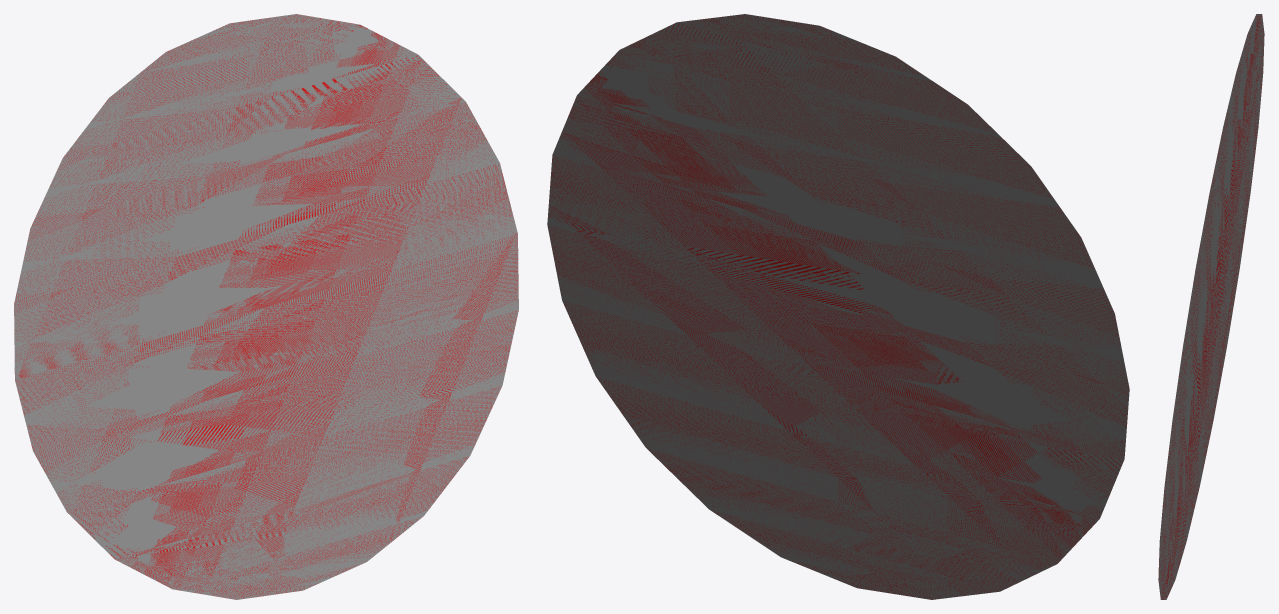
The model's file is original-21.obj.
3 renders of one model, left to right at view 1: azimuth 30°, elevation 25°; view 2: azimuth 150°, elevation 25°; view 3: azimuth 270°, elevation 25°, orthographic. The views are drawn at different scales.
Parts seen in each view (by area): view 1: #ID117; view 2: #ID117; view 3: #ID117.
Boxes of the visible parts, x1,y1,x2,y2 form: #ID117: (14,14,518,599); #ID117: (547,14,1129,599); #ID117: (1158,14,1264,599).
Size of the model in its own units: 0.00693 by 0.00699 by 0.00126.
